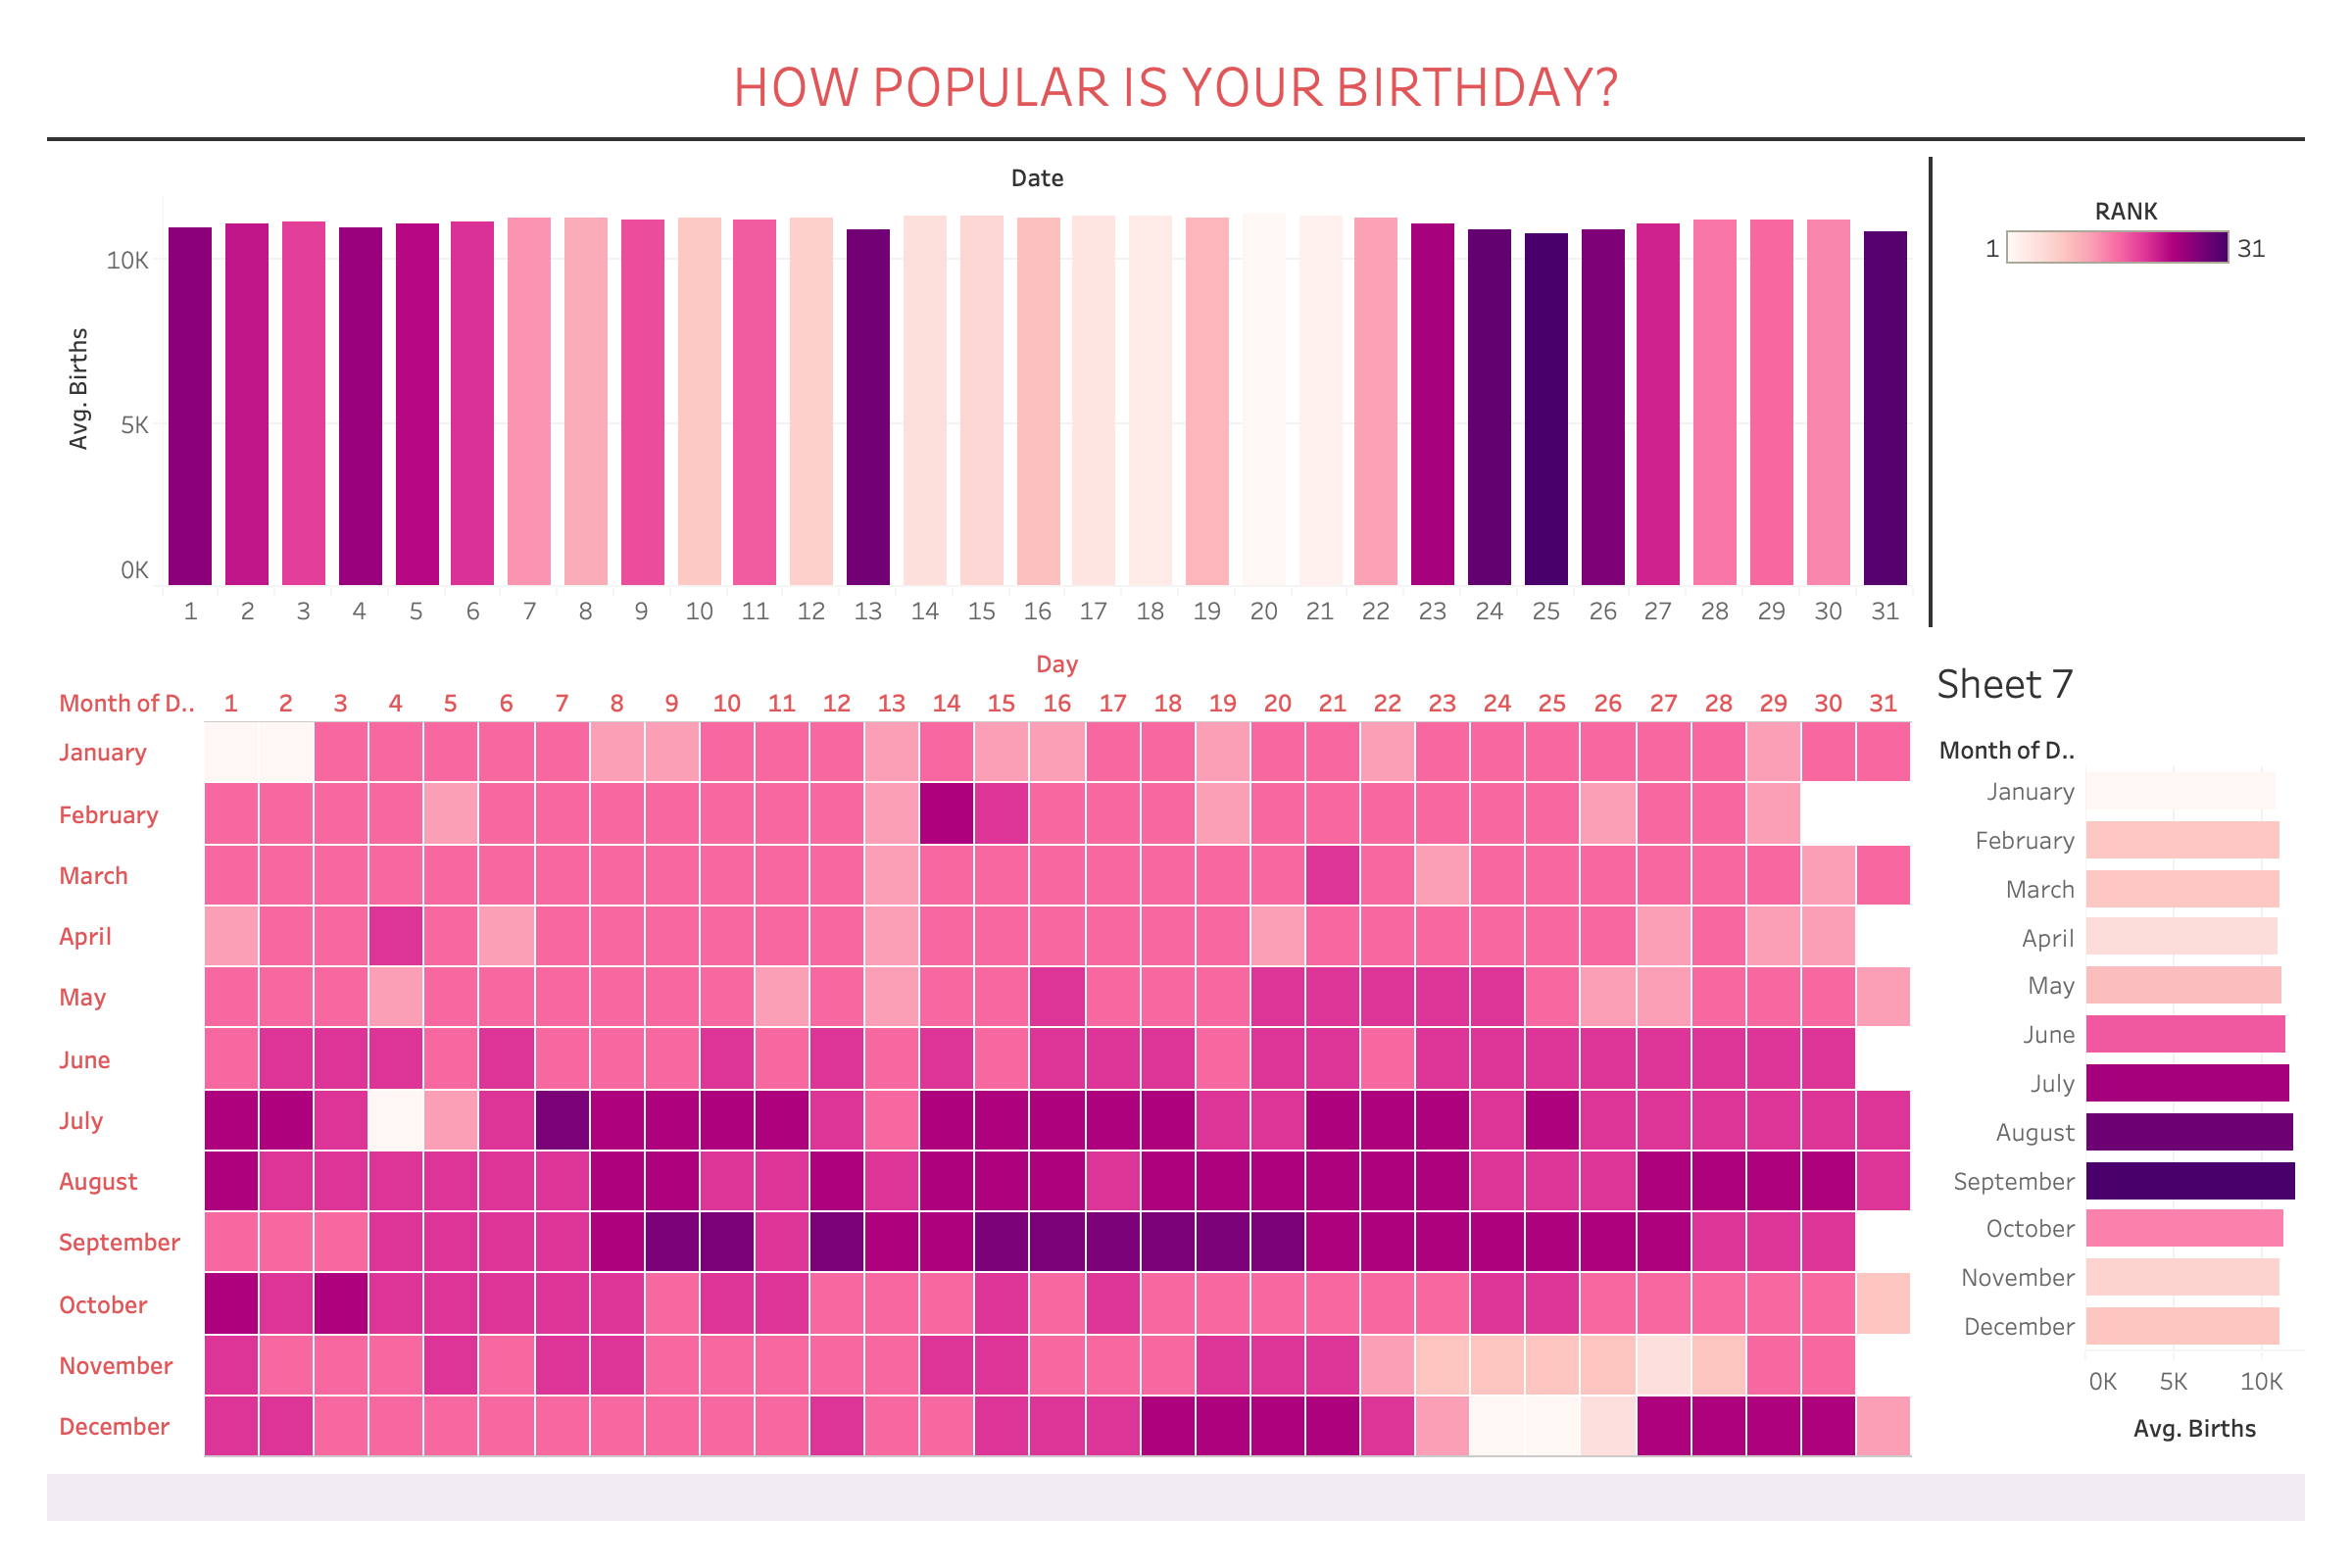

The dashboard page shown, as its layout file describes it:
{"tool":"tableau","page":{"name":"Dashboard 1","canvas":[1200,800],"ordinal":0},"visuals":[{"type":"text","box":[20,20,1160,46]},{"type":"blank","box":[20,66,1160,10]},{"type":"worksheet","title":"Sheet 8","mark":"Bar","rows":["births"],"cols":["Calculation_2747125412470480896"],"box":[20,76,959.6,248]},{"type":"blank","box":[979.6,76,10,248]},{"type":"legend","title":"Sheet 8","param":"[federated.0r31ddu1yh3vqr19c6o080veb8aa].[rank:avg:births:qk:3]","box":[989.6,76,190,248]},{"type":"worksheet","title":"Sheet 1","mark":"Automatic","rows":["Calculation_2747125412470480896"],"cols":["date_of_month"],"box":[20,324,959.8,424]},{"type":"worksheet","title":"Sheet 7","mark":"Bar","rows":["Calculation_2747125412470480896"],"cols":["births"],"box":[979.8,324,200,424]},{"type":"blank","box":[20,748,1160,32]}]}

Visuals, with their boxes in screenshot pixels (x1, y1, x2, y2), scaled from the page's 1200x800 canvas onto the 2352x1568 screenshot:
text: bbox(39, 39, 2313, 129)
blank: bbox(39, 129, 2313, 149)
"Sheet 8" worksheet (Bar marks): bbox(39, 149, 1920, 635)
blank: bbox(1920, 149, 1939, 635)
"Sheet 8" legend: bbox(1939, 149, 2312, 635)
"Sheet 1" worksheet: bbox(39, 635, 1921, 1466)
"Sheet 7" worksheet (Bar marks): bbox(1921, 635, 2313, 1466)
blank: bbox(39, 1466, 2313, 1529)
